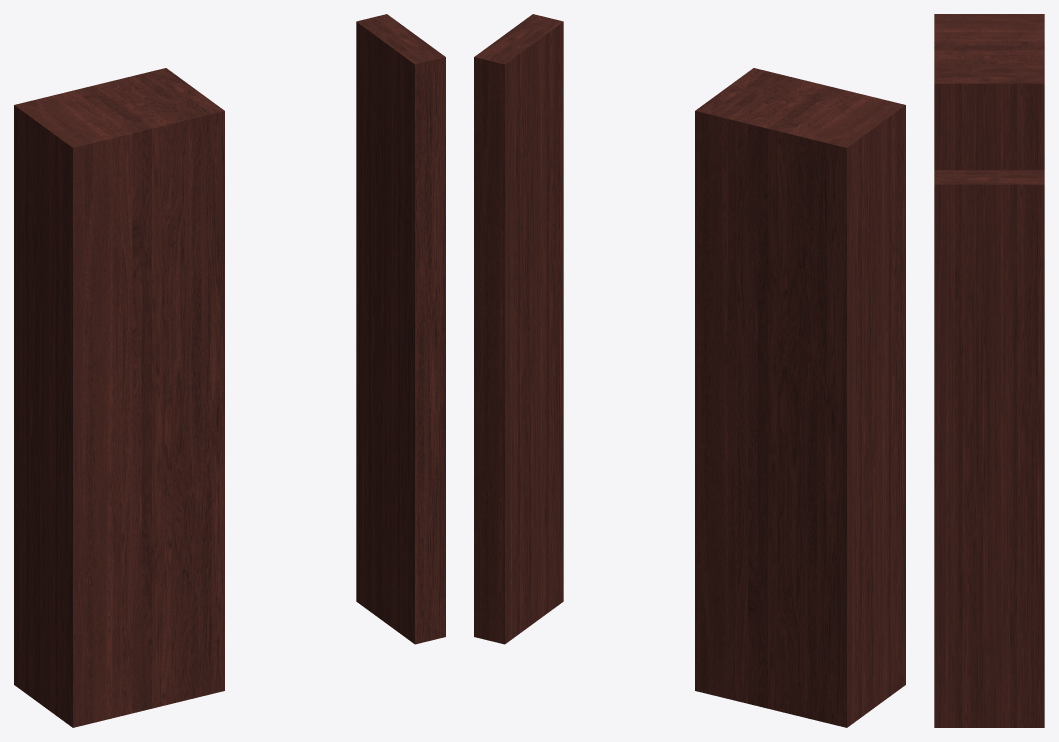
The model's file is XD-墙角墙体.fbx.
The picture shows the model from 3 angles, left to right: view 1: azimuth 30°, elevation 25°; view 2: azimuth 150°, elevation 25°; view 3: azimuth 270°, elevation 25°; orthographic projection. The views are drawn at different scales.
Parts seen in each view (by area): view 1: XD-墙角墙体; view 2: XD-墙角墙体; view 3: XD-墙角墙体.
Part boxes in pixels (x1=…): XD-墙角墙体: x1=14, y1=14, x2=445, y2=727; XD-墙角墙体: x1=474, y1=14, x2=905, y2=727; XD-墙角墙体: x1=934, y1=14, x2=1044, y2=727.
Bounding box in the file's own units: 1.77 × 0.4833 × 2.63.
